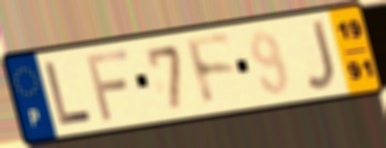7: (143, 41, 186, 112)
9: (249, 29, 291, 97)
F: (182, 32, 240, 110), (83, 47, 131, 124)
J: (303, 16, 338, 93)
L: (42, 59, 95, 129)
